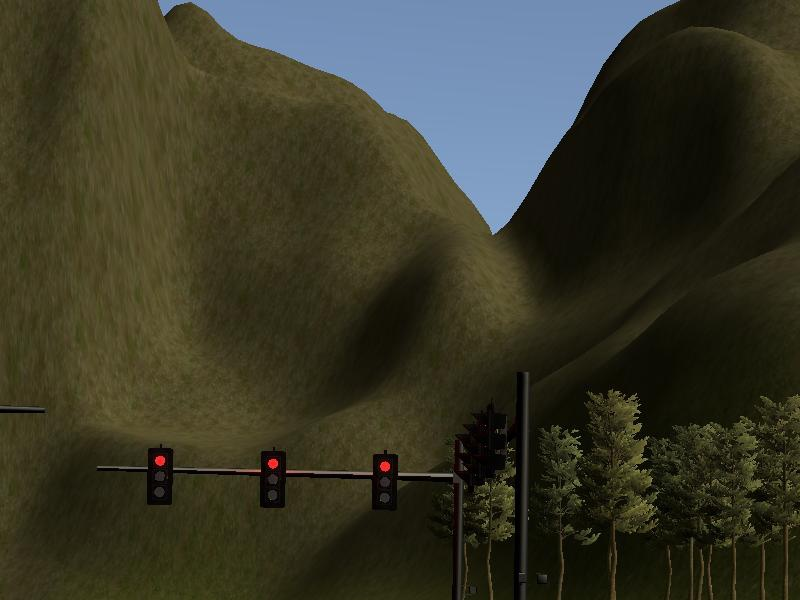Red: (371, 452, 399, 511), (258, 449, 286, 508), (146, 447, 174, 506)
